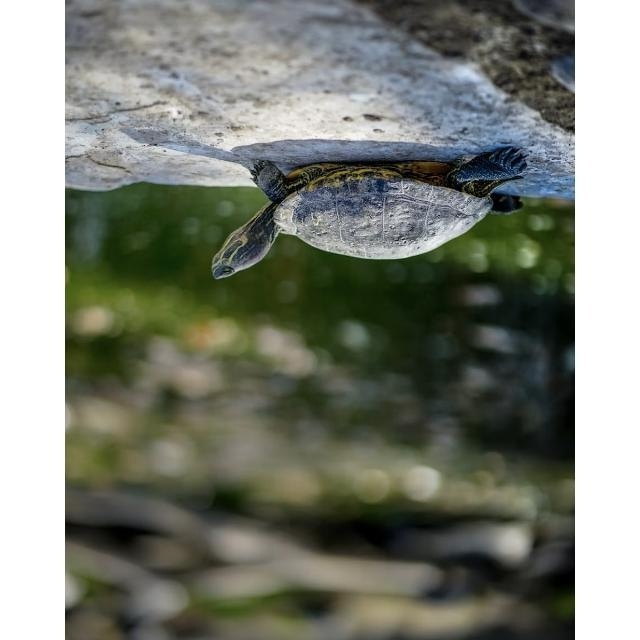turtle: (211, 145, 527, 280)
